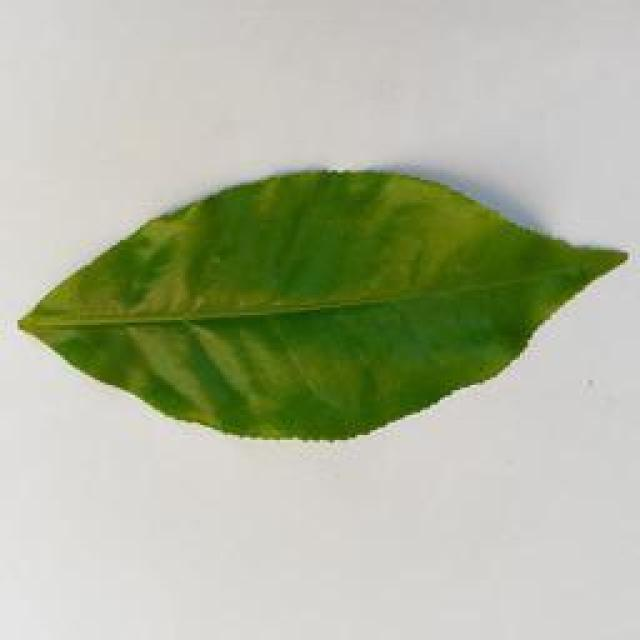Healthy: (23, 166, 622, 445)
